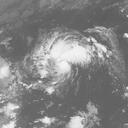cyclone: (30, 27, 97, 96)
